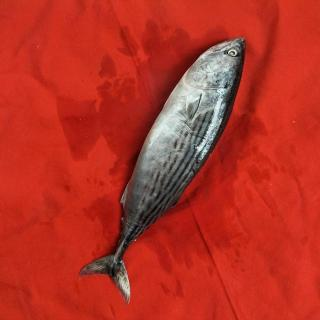Ikan: (84, 30, 260, 305)
